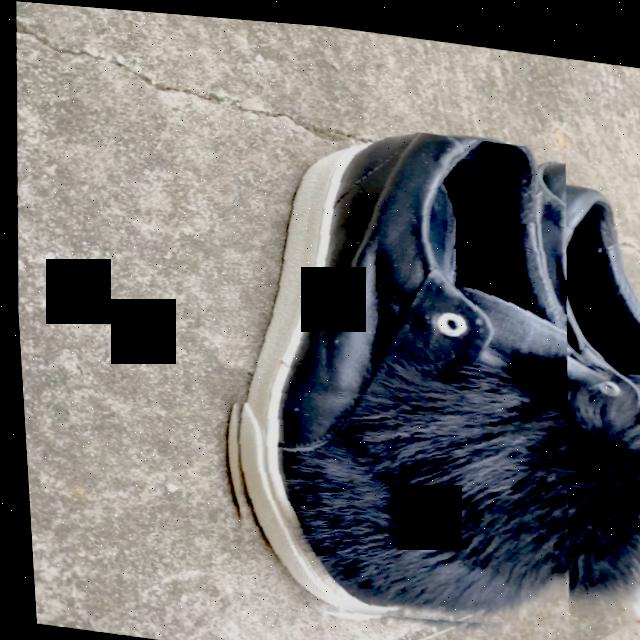shoe: (230, 125, 563, 611)
